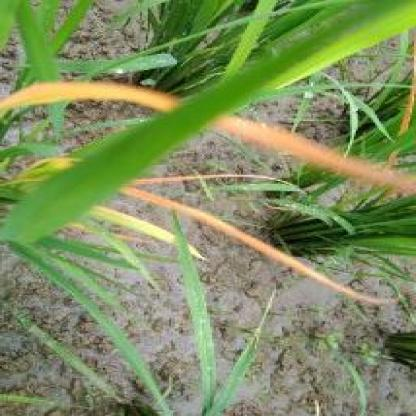Tungro: (207, 114, 415, 196), (3, 82, 180, 116)
